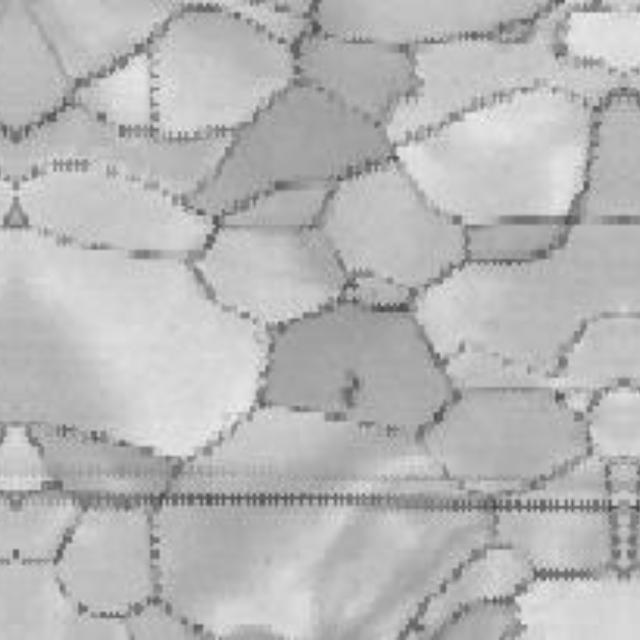good_void: (335, 369, 362, 409)
